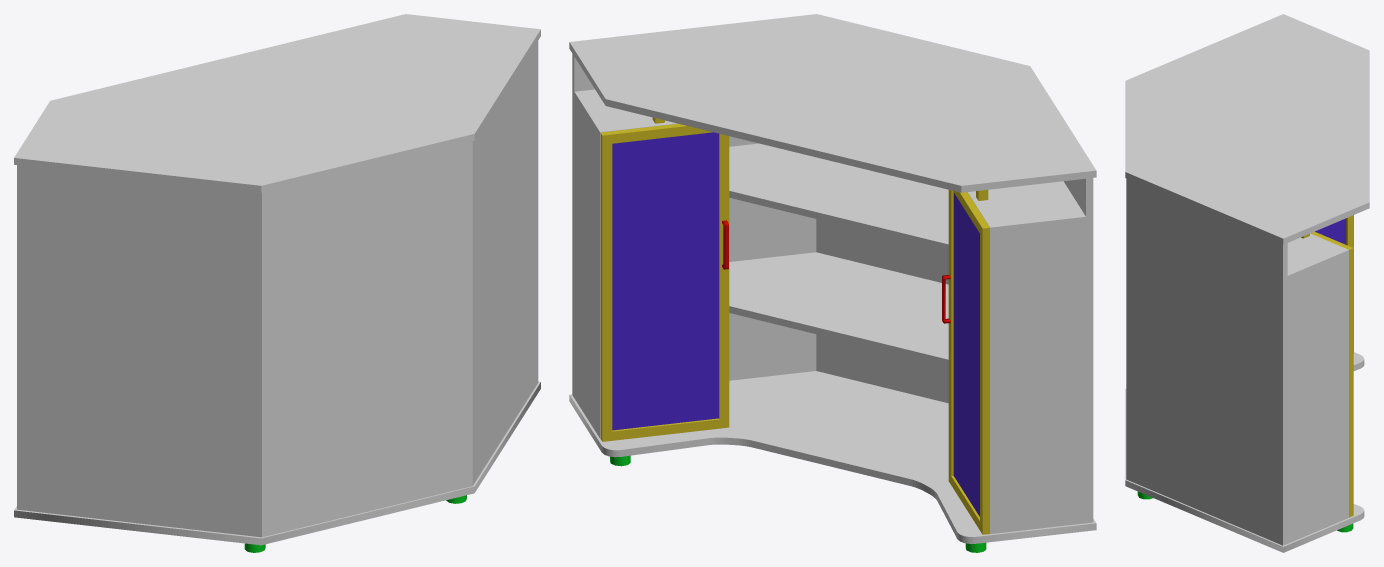
The model's file is Tumbochka_2.fbx.
The picture shows the model from 3 angles, left to right: view 1: azimuth 30°, elevation 25°; view 2: azimuth 150°, elevation 25°; view 3: azimuth 270°, elevation 25°; orthographic projection. The views are drawn at different scales.
Visible parts, largest first — view 1: Cube.533, Cube.534, Cube.503, Cube.504, Cube.505; view 2: Cube.503, Cube.518, Cube.530, Cube.505, Cube.519, Cube.537, Cube.528, Cube.504, Cube.534, Cube.507, Cube.529, Cube.533 (+1 smaller); view 3: Cube.504, Cube.503, Cube.507, Cube.505, Cube.511, Cube.518, Cube.528.
Boxes of the visible parts, <box> form: Cube.533: <box>17,165,261,537</box>; Cube.534: <box>262,141,472,537</box>; Cube.503: <box>14,14,540,192</box>; Cube.504: <box>472,41,538,485</box>; Cube.505: <box>14,381,540,545</box>; Cube.503: <box>569,14,1096,192</box>; Cube.518: <box>600,123,729,441</box>; Cube.530: <box>990,223,1085,534</box>; Cube.505: <box>569,371,1096,543</box>; Cube.519: <box>729,252,948,366</box>; Cube.537: <box>729,143,948,251</box>; Cube.528: <box>942,190,989,534</box>; Cube.504: <box>572,54,816,397</box>; Cube.534: <box>816,219,948,403</box>; Cube.507: <box>574,99,600,438</box>; Cube.529: <box>967,181,1085,234</box>; Cube.533: <box>1064,178,1093,523</box>; Cube.504: <box>1126,178,1287,545</box>; Cube.503: <box>1125,14,1369,244</box>; Cube.507: <box>1287,256,1348,543</box>; Cube.505: <box>1125,352,1364,552</box>; Cube.511: <box>1287,233,1348,281</box>; Cube.518: <box>1310,231,1353,517</box>; Cube.528: <box>1315,215,1353,353</box>.
Size of the model in its own units: 120 by 81 by 55.04.
